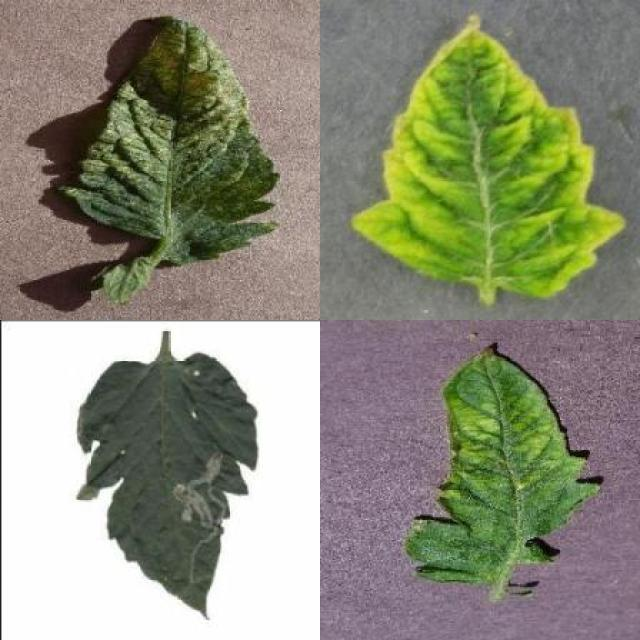Leaf Miner: (72, 352, 258, 618)
Mosaic Virus: (402, 344, 602, 586)
Spider Mites: (61, 18, 282, 265)
Yellow Leaf Curl Virus: (352, 15, 628, 299)
